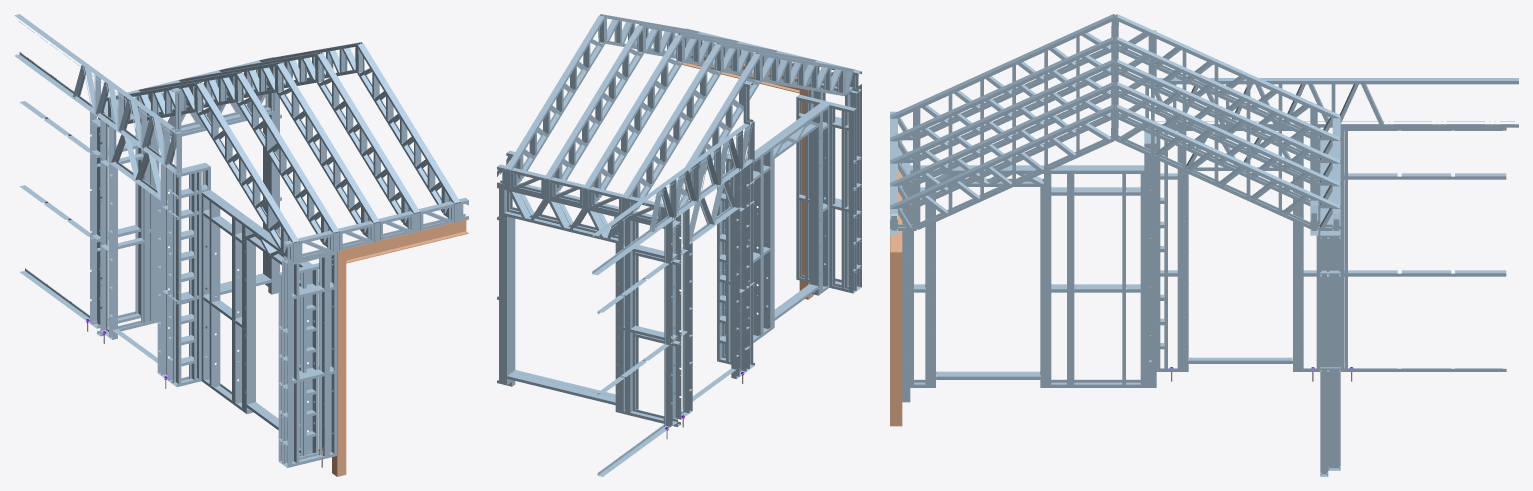
File: m2-roof-trusses.glb
The picture shows the model from 3 angles, left to right: view 1: azimuth 30°, elevation 25°; view 2: azimuth 150°, elevation 25°; view 3: azimuth 270°, elevation 25°; orthographic projection. The views are drawn at different scales.
Parts seen in each view (by area): view 1: part_01, part_02; view 2: part_01, part_02; view 3: part_01, part_02.
Boxes of the visible parts, x1,y1,x2,y2 form: part_01: (14, 14, 468, 467); part_02: (332, 219, 468, 476); part_01: (497, 14, 861, 476); part_02: (682, 55, 813, 299); part_01: (890, 14, 1518, 476); part_02: (890, 163, 902, 426).
Size of the model in its own units: 2.75 by 4.81 by 7.16.
